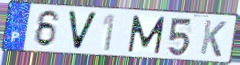1: (101, 12, 117, 53)
5: (166, 16, 195, 58)
6: (32, 9, 60, 49)
K: (198, 19, 228, 59)
M: (126, 14, 167, 55)
V: (66, 9, 100, 52)
